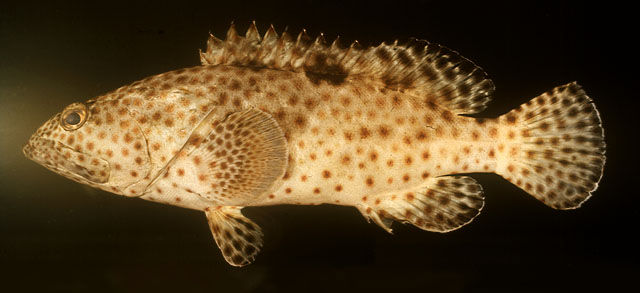fish: (21, 19, 608, 267)
